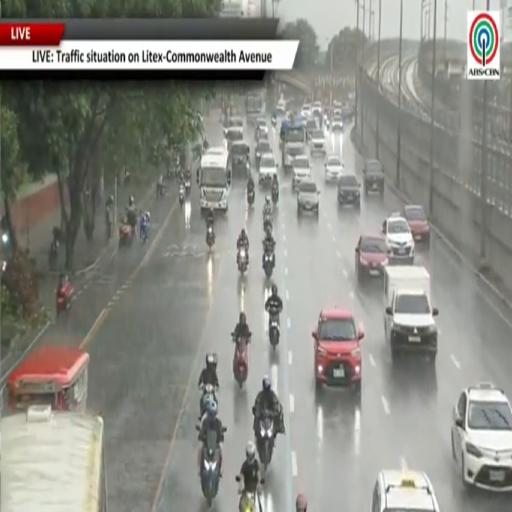bus: (0, 406, 107, 511), (200, 151, 230, 212), (245, 90, 266, 123)
car: (451, 383, 511, 491), (312, 308, 364, 393), (371, 470, 439, 511), (382, 214, 414, 264), (355, 235, 388, 282), (403, 205, 430, 245), (337, 174, 360, 209), (363, 159, 384, 197), (297, 181, 319, 215), (292, 155, 311, 190), (259, 153, 277, 184), (325, 154, 344, 182), (256, 139, 272, 168), (310, 130, 326, 155), (255, 118, 268, 139), (306, 117, 318, 139), (331, 115, 344, 131), (228, 117, 244, 129), (276, 101, 287, 116), (312, 102, 322, 116), (301, 104, 311, 118), (333, 105, 342, 118), (258, 131, 268, 140)
jeepney: (7, 346, 89, 410)
motorcycle: (200, 430, 220, 506), (256, 410, 274, 471), (233, 339, 250, 388), (56, 279, 74, 315), (48, 226, 62, 271), (200, 383, 217, 420), (239, 490, 262, 511), (269, 310, 279, 349), (48, 240, 58, 270), (237, 248, 248, 275), (264, 249, 273, 278), (106, 207, 112, 241), (140, 223, 149, 245), (206, 226, 214, 249), (264, 215, 272, 231), (247, 189, 255, 205), (271, 187, 278, 205), (156, 183, 164, 198), (179, 185, 185, 205), (185, 180, 190, 196), (271, 116, 276, 126)
tricycle: (56, 275, 74, 315), (119, 221, 135, 248)
truck: (384, 266, 438, 362), (280, 117, 306, 171)
